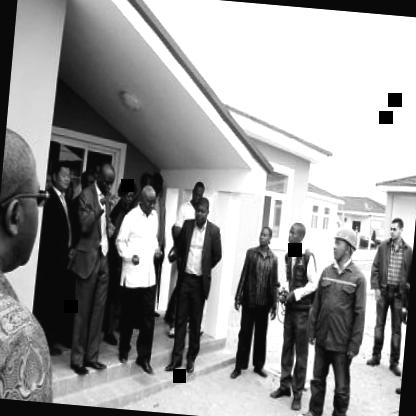head: (0, 116, 60, 275), (137, 176, 162, 215), (92, 160, 117, 198), (117, 175, 140, 213), (52, 155, 72, 193), (284, 219, 308, 250), (190, 194, 213, 225), (254, 223, 277, 250), (386, 214, 406, 242), (191, 178, 208, 204)
helmet: (328, 221, 362, 268)
